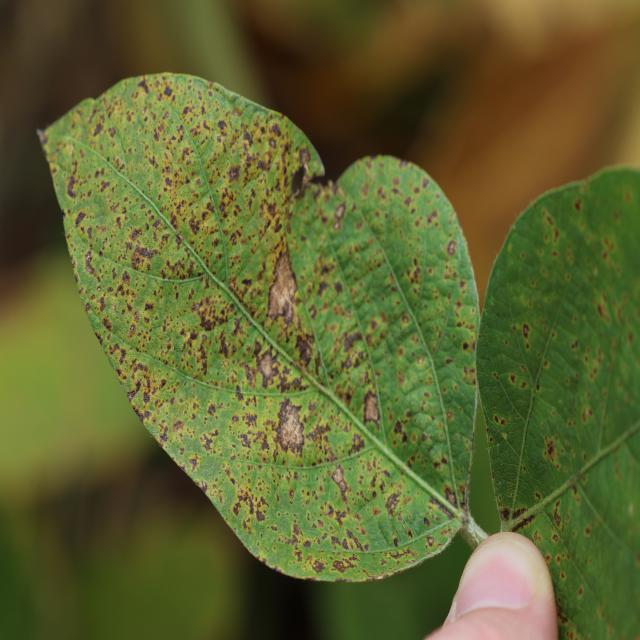Bacterial_Blight: (266, 251, 298, 323), (272, 399, 304, 467), (158, 250, 199, 282), (581, 341, 604, 385), (129, 242, 160, 274), (256, 350, 278, 384), (331, 466, 350, 502), (509, 511, 538, 532), (363, 390, 380, 425), (182, 327, 201, 356), (342, 329, 363, 354), (385, 547, 417, 563), (219, 187, 237, 215), (543, 436, 558, 465), (345, 528, 365, 549), (384, 491, 401, 514), (331, 558, 354, 574), (298, 146, 312, 172), (407, 262, 422, 285), (242, 411, 258, 430), (444, 486, 458, 507), (66, 175, 78, 197), (393, 419, 406, 439), (333, 202, 346, 222), (188, 217, 201, 236), (137, 76, 150, 95), (84, 250, 95, 272), (202, 435, 215, 452), (553, 505, 562, 528), (133, 406, 145, 423), (596, 301, 607, 319), (75, 210, 87, 226), (36, 128, 48, 144), (228, 166, 239, 182), (188, 455, 199, 471), (255, 506, 266, 522), (162, 83, 173, 99), (314, 354, 322, 376), (427, 209, 438, 225), (172, 419, 184, 433), (201, 317, 213, 331), (217, 119, 228, 134), (447, 240, 457, 256), (131, 228, 143, 241), (256, 158, 268, 171), (500, 507, 511, 521), (102, 317, 112, 332), (207, 403, 217, 416), (522, 323, 530, 339), (235, 384, 243, 400), (425, 535, 435, 547), (142, 391, 151, 404), (121, 271, 130, 284), (164, 177, 173, 190), (127, 390, 136, 403), (574, 198, 582, 212), (144, 301, 154, 312), (241, 277, 252, 287), (230, 232, 237, 245), (571, 340, 579, 351), (628, 501, 634, 515), (375, 572, 385, 580), (577, 585, 583, 598), (462, 341, 469, 351), (392, 537, 399, 547), (423, 517, 430, 527), (534, 492, 541, 501), (510, 374, 516, 384), (585, 526, 591, 536), (493, 415, 499, 424), (502, 432, 508, 440), (500, 418, 505, 426)
Soybean: (38, 74, 488, 581)
